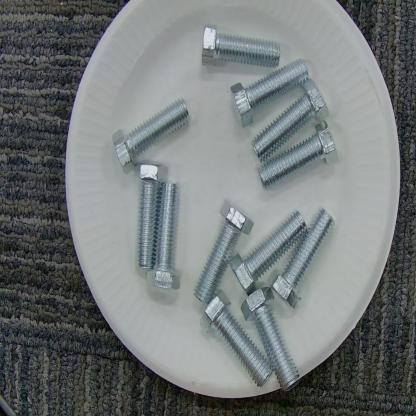FOD: (190, 196, 336, 364), (202, 19, 341, 188), (111, 94, 183, 294)
